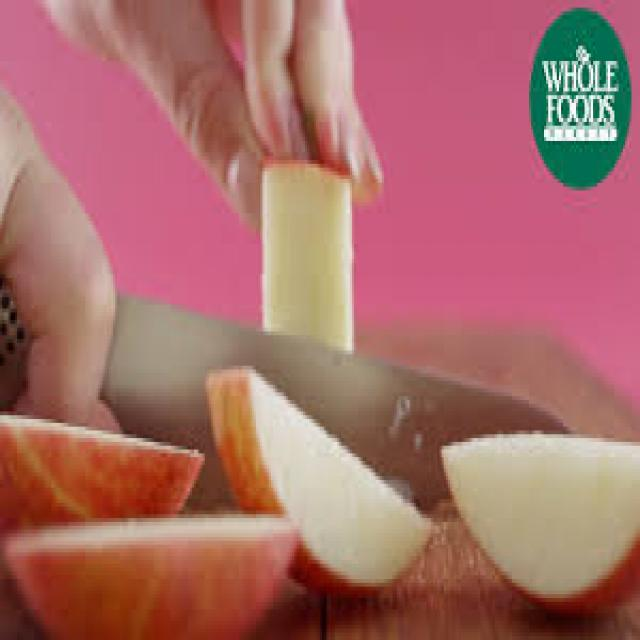Apple: (206, 364, 431, 590), (433, 419, 640, 610), (8, 522, 290, 640), (0, 404, 201, 526), (260, 156, 364, 354)
